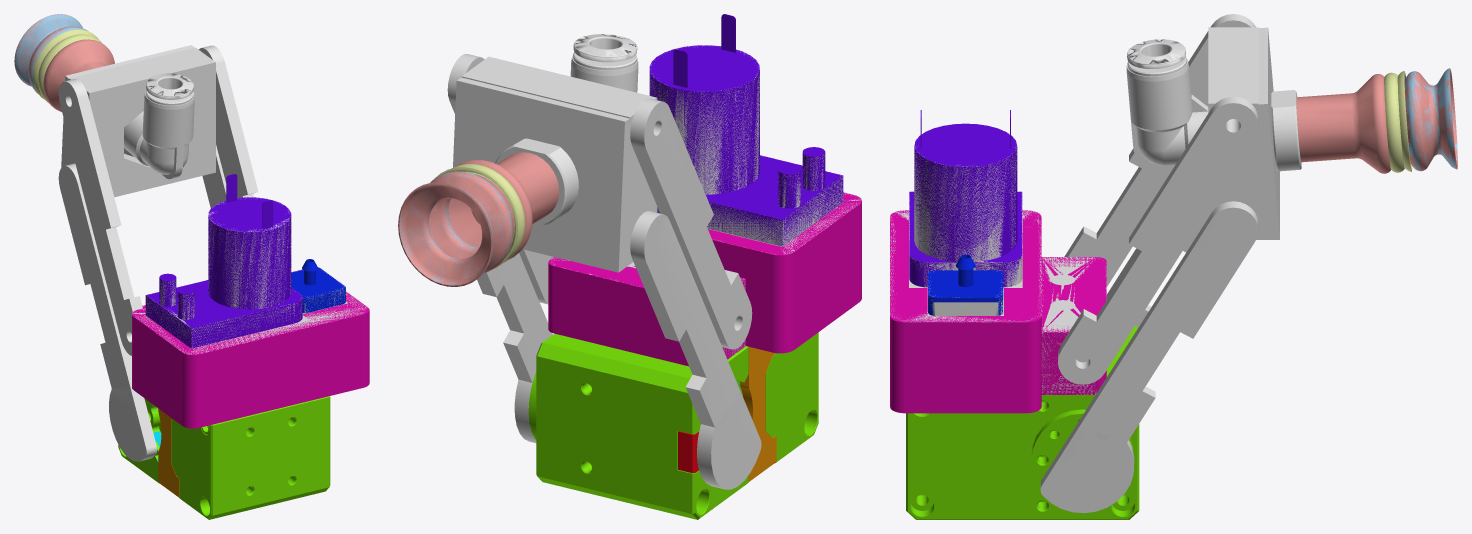
File: JINTECH - Bras Robotique V2 - Export.fbx
The picture shows the model from 3 angles, left to right: view 1: azimuth 30°, elevation 25°; view 2: azimuth 150°, elevation 25°; view 3: azimuth 270°, elevation 25°; orthographic projection. The views are drawn at different scales.
Parts seen in each view (by area): view 1: Robot.150, Robot.099, Robot.118, Robot.117, Robot.166, Robot.003, Robot.116, Robot.165, Robot.009, Robot.005, Robot.014, Robot.004 (+5 smaller); view 2: Robot.150, Robot.099, Robot.118, Robot.165, Robot.117, Robot.003, Robot.009, Robot.114, Robot.005, Robot.001, Robot.166, Robot.006 (+6 smaller); view 3: Robot.150, Robot.099, Robot.116, Robot.114, Robot.001, Robot.165, Robot.118, Robot.166, Robot.009, Robot.117, Robot.002, Robot.007 (+6 smaller).
Boxes of the visible parts, x1,y1,x2,y2 form: Robot.150: (132,174,369,428); Robot.099: (118,396,330,519); Robot.118: (61,45,215,197); Robot.117: (58,79,142,355); Robot.166: (124,73,194,179); Robot.003: (58,166,130,388); Robot.116: (198,45,258,197); Robot.165: (15,14,114,111); Robot.009: (208,197,291,309); Robot.005: (109,388,157,461); Robot.014: (14,14,88,93); Robot.004: (132,270,367,354); Robot.150: (548,14,861,366); Robot.099: (528,332,818,519); Robot.118: (453,56,657,272); Robot.165: (398,152,559,286); Robot.117: (630,98,752,349); Robot.003: (630,214,739,427); Robot.009: (650,45,759,194); Robot.114: (477,253,552,382); Robot.005: (697,390,761,489); Robot.001: (494,253,552,443); Robot.166: (570,34,638,92); Robot.006: (657,156,843,246); Robot.150: (890,110,1106,413); Robot.099: (906,325,1139,519); Robot.116: (1058,96,1258,384); Robot.114: (1081,201,1258,442); Robot.001: (1040,208,1258,513); Robot.165: (1296,68,1457,173); Robot.118: (1208,27,1279,239); Robot.166: (1126,39,1208,168); Robot.009: (914,130,1016,261); Robot.117: (1064,14,1255,286); Robot.002: (1041,427,1133,512); Robot.007: (1041,257,1106,394).
Bounding box in the file's own units: 5280 × 9595 × 11320.
